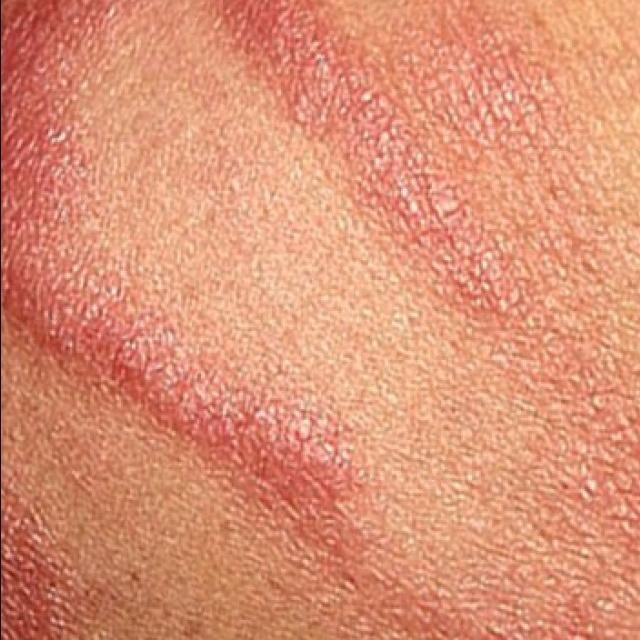Leprosy: (0, 0, 392, 542), (389, 0, 640, 640), (0, 482, 137, 640)
